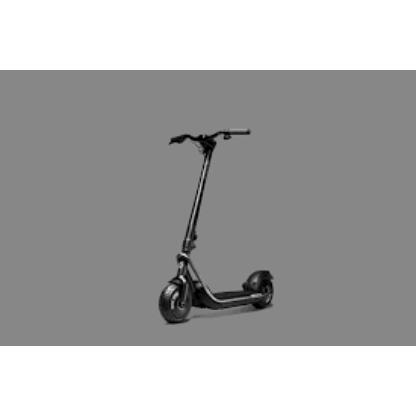bike: (158, 128, 274, 324)
